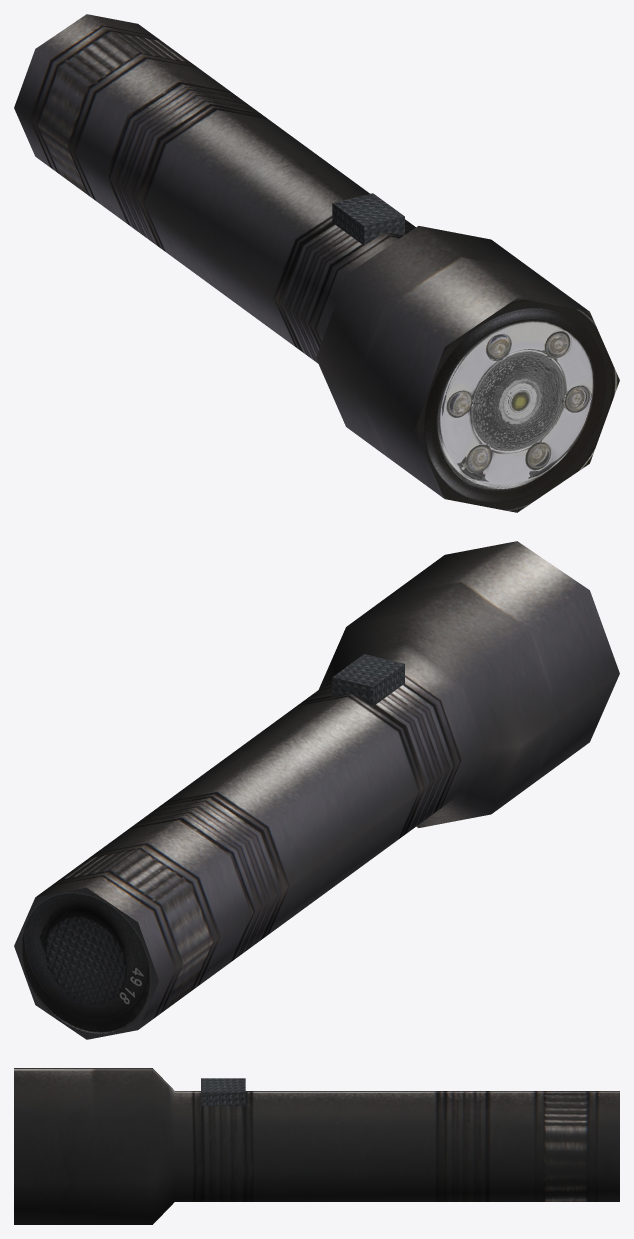
File: FlashLight.fbx
The picture shows the model from 3 angles, top to bottom: view 1: azimuth 30°, elevation 25°; view 2: azimuth 150°, elevation 25°; view 3: azimuth 270°, elevation 25°; orthographic projection. The views are drawn at different scales.
Visible parts, largest first — view 1: FlashLight; view 2: FlashLight; view 3: FlashLight.
Boxes of the visible parts, x1,y1,x2,y2 form: FlashLight: (14,14,619,512); FlashLight: (14,541,619,1039); FlashLight: (14,1068,619,1224).
Size of the model in its own units: 0.1565 by 0.1565 by 0.5683.
